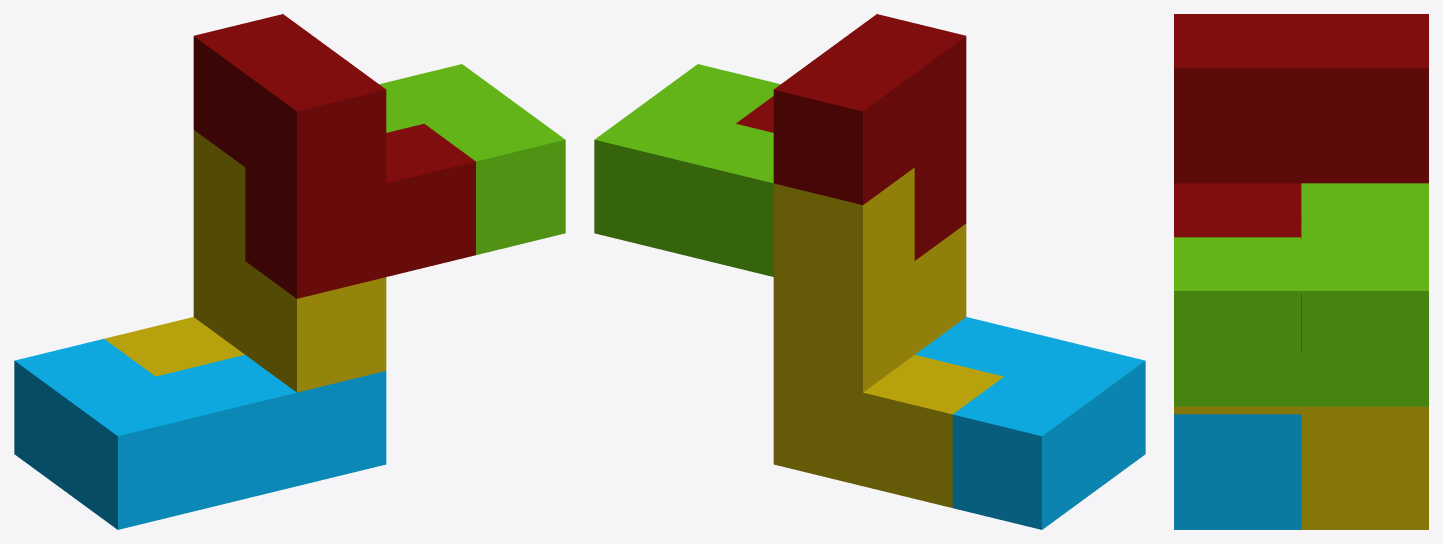
3 views of the same model, side by side, from view 1: azimuth 30°, elevation 25°; view 2: azimuth 150°, elevation 25°; view 3: azimuth 270°, elevation 25° (orthographic). The views are drawn at different scales.
Parts seen in each view (by area): view 1: mergedBlocks(Clone); view 2: mergedBlocks(Clone); view 3: mergedBlocks(Clone).
Part boxes in pixels (left/top/right/bottom): mergedBlocks(Clone): left=14, top=14, right=565, bottom=529; mergedBlocks(Clone): left=594, top=14, right=1145, bottom=529; mergedBlocks(Clone): left=1174, top=14, right=1428, bottom=529.
Bounding box in the file's own units: 5 × 4 × 2.
4 materials, 4 textured.
